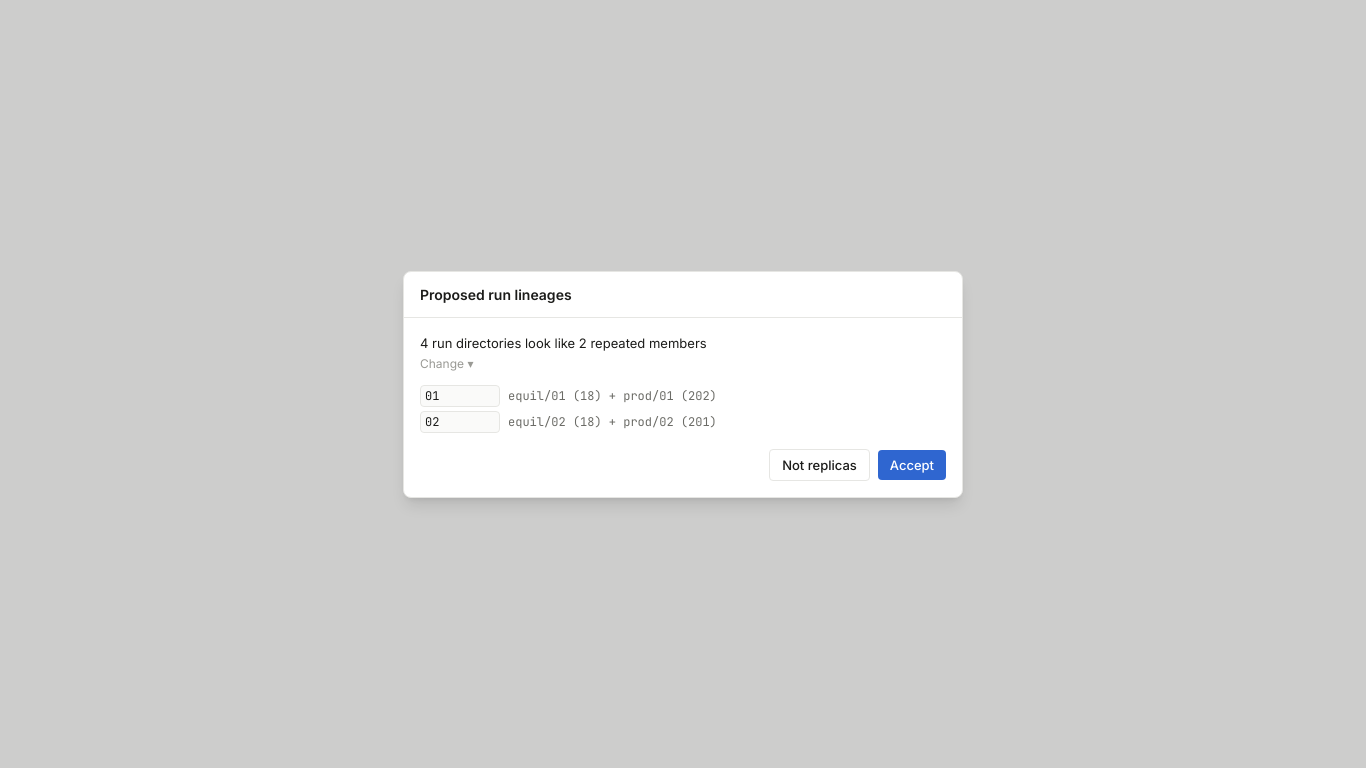
Test: reports a partial apply rather than claiming success
What coordinates should you click on to do the following:
click the button "Accept"
I would click on:
 (912, 464)
Its box is [878, 450, 946, 480].
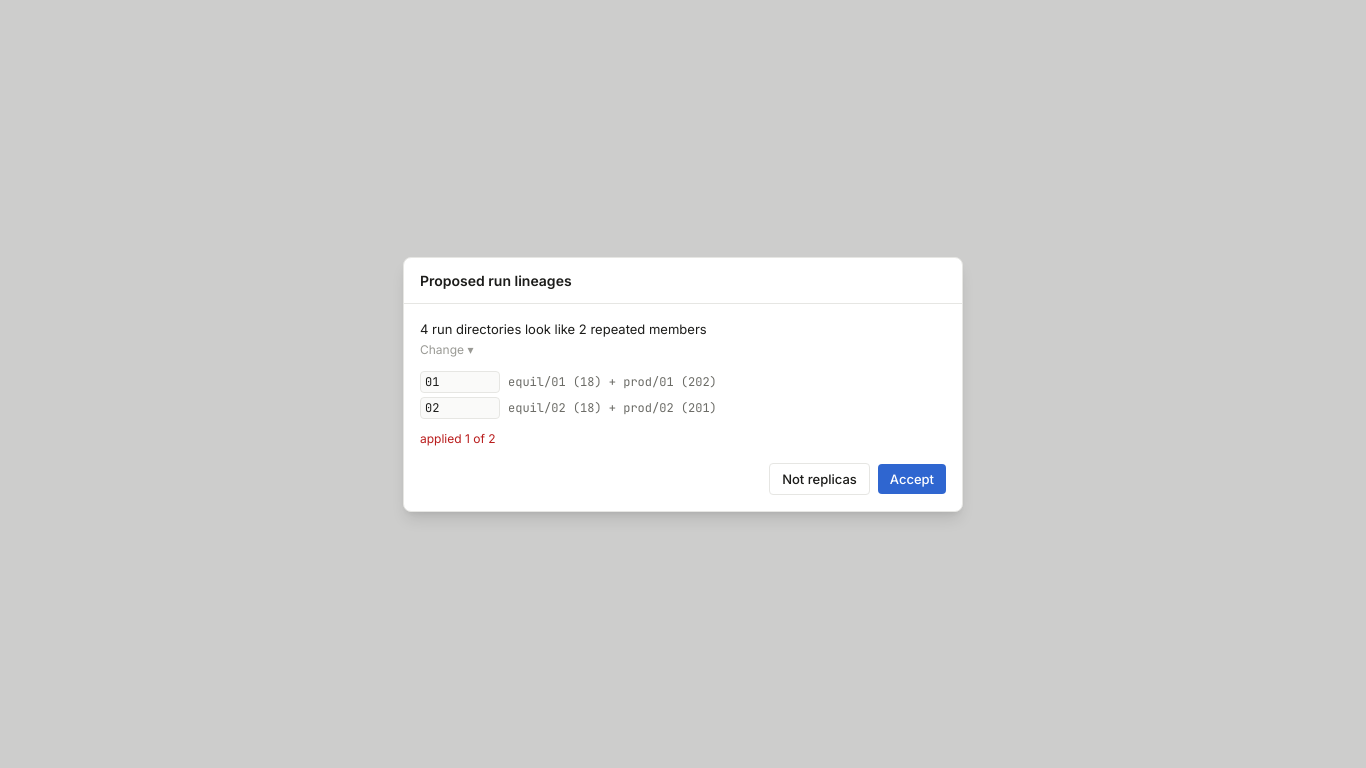
Check: the text "applied 1 of 2" is shown, box [420, 430, 496, 446]
